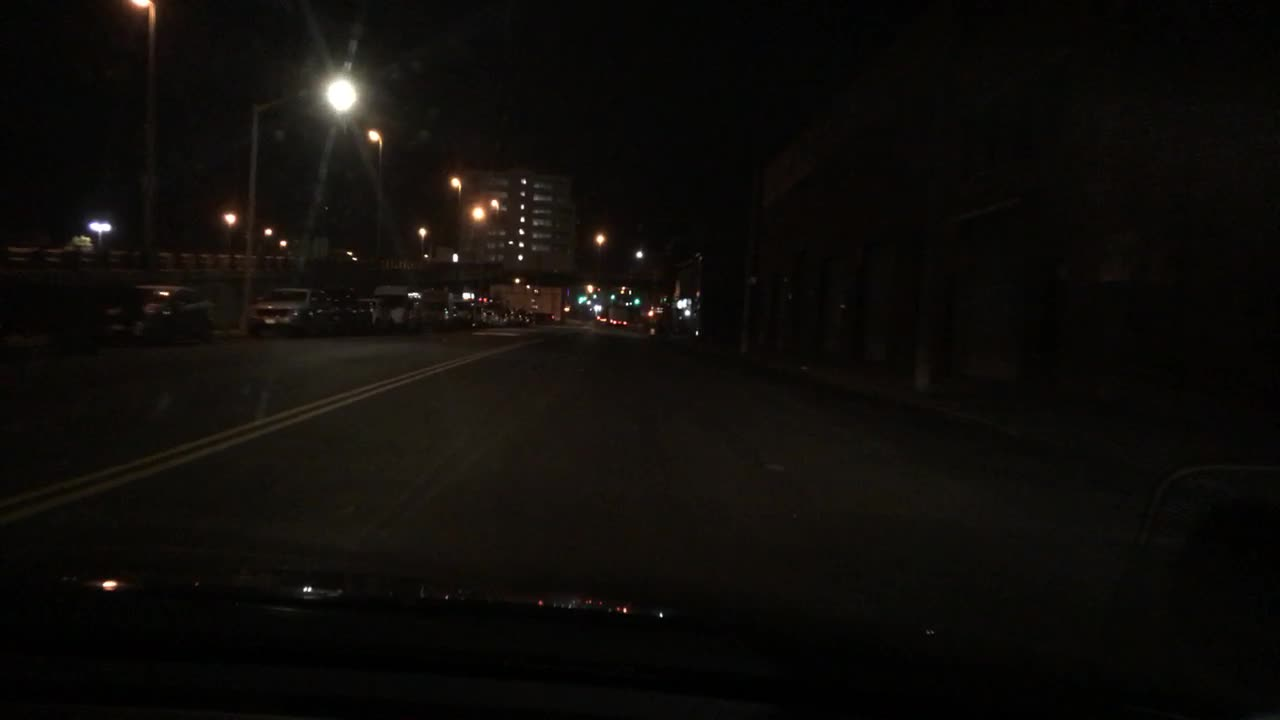car: (96, 281, 216, 345), (247, 284, 334, 335), (371, 281, 428, 327), (345, 295, 382, 325), (322, 295, 353, 327), (416, 299, 452, 324), (454, 296, 482, 325), (474, 302, 491, 328), (531, 309, 558, 324), (485, 309, 502, 328), (508, 309, 525, 325), (594, 312, 612, 327), (500, 310, 517, 324), (609, 316, 628, 328), (517, 312, 535, 324)
traffic light: (644, 306, 658, 321), (576, 294, 592, 306), (632, 295, 645, 307), (607, 292, 619, 304)
